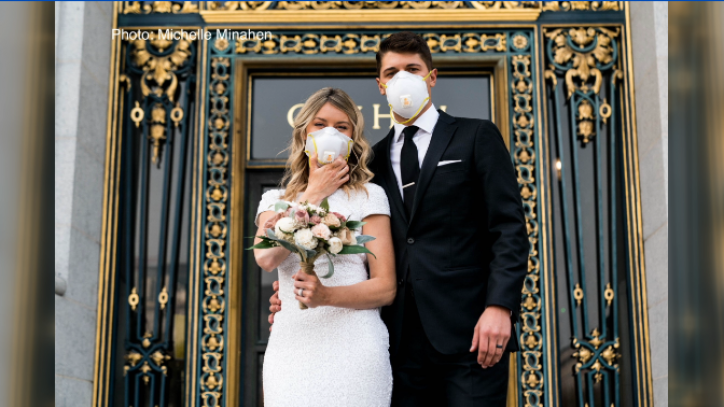n95: (379, 73, 432, 119), (301, 128, 357, 167)
